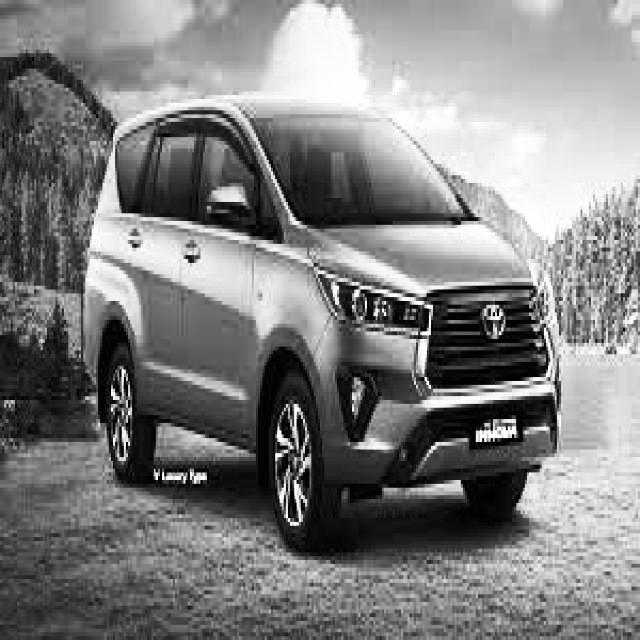Car: (91, 96, 569, 541)
